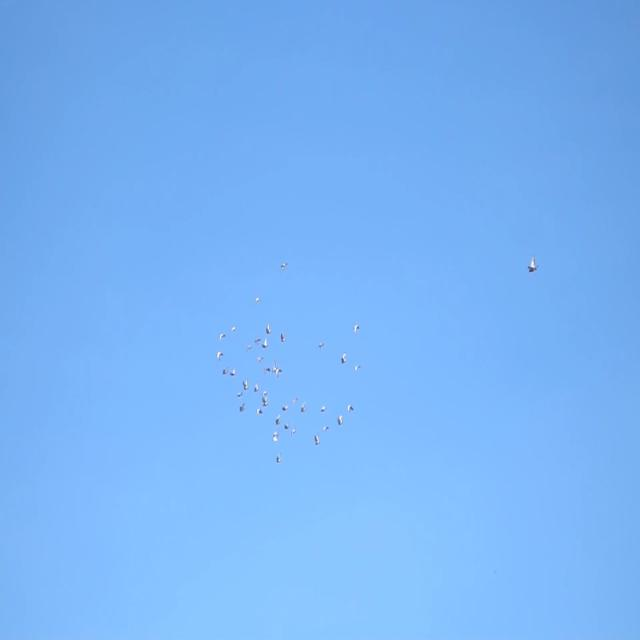bird: (526, 252, 540, 277), (273, 360, 283, 380), (261, 390, 268, 409), (279, 260, 289, 273), (254, 406, 264, 419), (274, 413, 282, 427), (336, 414, 344, 428), (272, 430, 279, 446), (275, 450, 282, 466), (340, 352, 347, 366), (242, 378, 249, 392), (290, 424, 297, 438), (313, 432, 320, 446), (253, 336, 261, 348), (256, 354, 264, 366), (264, 364, 272, 376), (253, 380, 259, 396), (290, 396, 298, 408), (346, 402, 354, 414), (280, 402, 288, 414), (280, 330, 286, 345), (300, 401, 306, 416), (253, 294, 260, 306), (265, 322, 271, 336), (261, 337, 268, 349), (245, 342, 252, 354), (216, 350, 223, 362), (229, 366, 236, 378), (321, 424, 330, 433), (352, 324, 360, 334), (218, 332, 226, 342), (319, 404, 327, 414), (318, 341, 326, 350), (222, 367, 230, 376), (354, 365, 361, 375), (239, 402, 245, 413), (230, 324, 236, 334), (284, 420, 290, 430), (237, 390, 242, 399)
